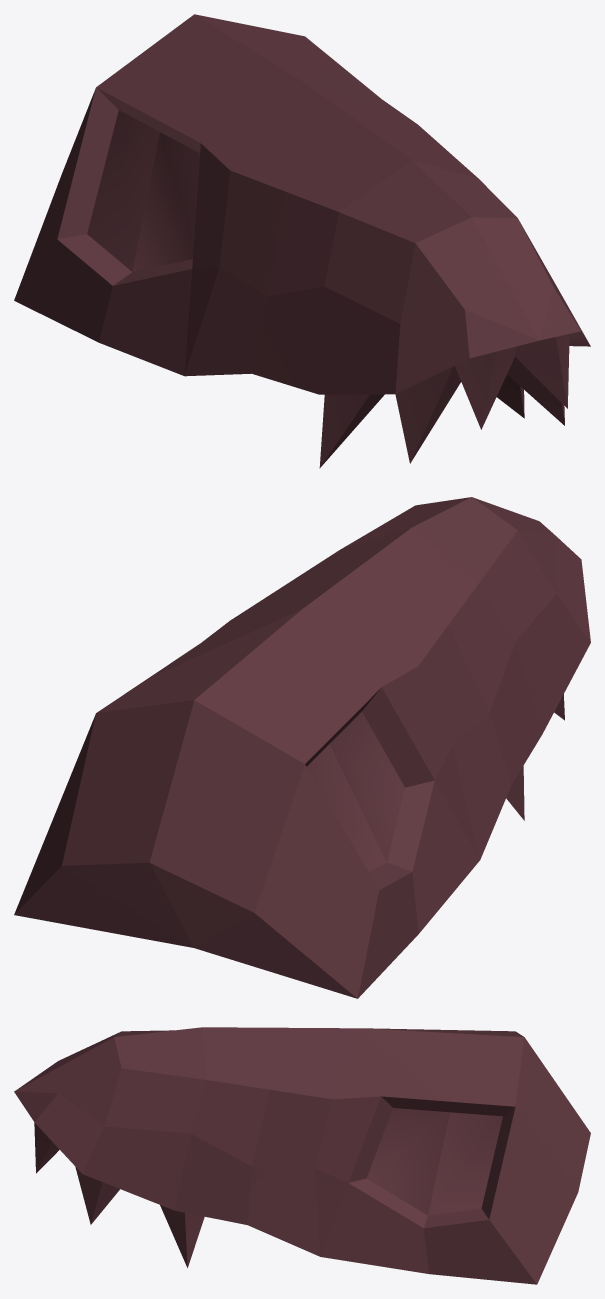
Rendered from SM_Skull_Trex.fbx.
3 renders of one model, top to bottom at view 1: azimuth 30°, elevation 25°; view 2: azimuth 150°, elevation 25°; view 3: azimuth 270°, elevation 25°, orthographic. The views are drawn at different scales.
Visible parts, largest first — view 1: SM_Skull_Trex; view 2: SM_Skull_Trex; view 3: SM_Skull_Trex.
Boxes of the visible parts, left/top/right/bottom form: SM_Skull_Trex: left=14, top=14, right=590, bottom=468; SM_Skull_Trex: left=14, top=497, right=590, bottom=998; SM_Skull_Trex: left=14, top=1027, right=590, bottom=1284.
Size of the model in its own units: 1.02 by 0.7856 by 2.01.
